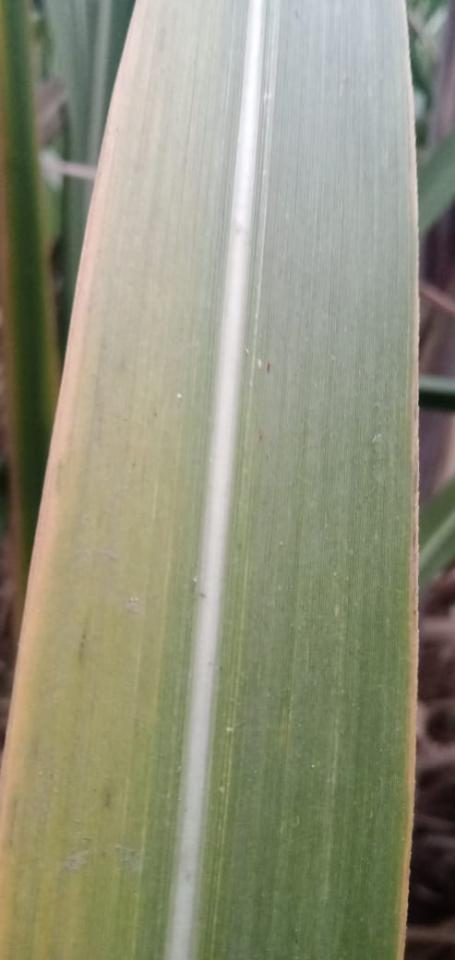Yellow: (0, 0, 153, 877), (395, 296, 419, 959)
